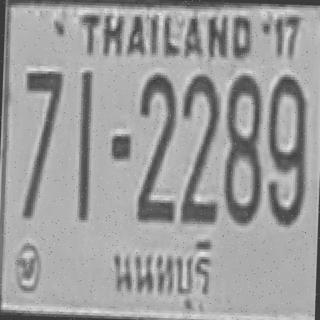N00: (265, 72, 307, 171)
N01: (76, 70, 92, 188)
N02: (136, 72, 178, 196), (136, 104, 176, 220)
N07: (22, 69, 62, 162), (22, 69, 62, 152)
N08: (221, 72, 262, 223)
N09: (264, 90, 307, 224)
P37: (105, 229, 220, 311)
